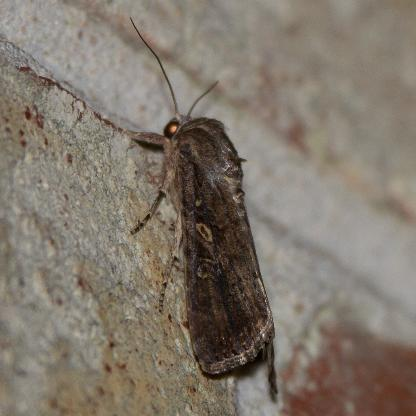Fall Armyworm Moth: (108, 15, 282, 398)
